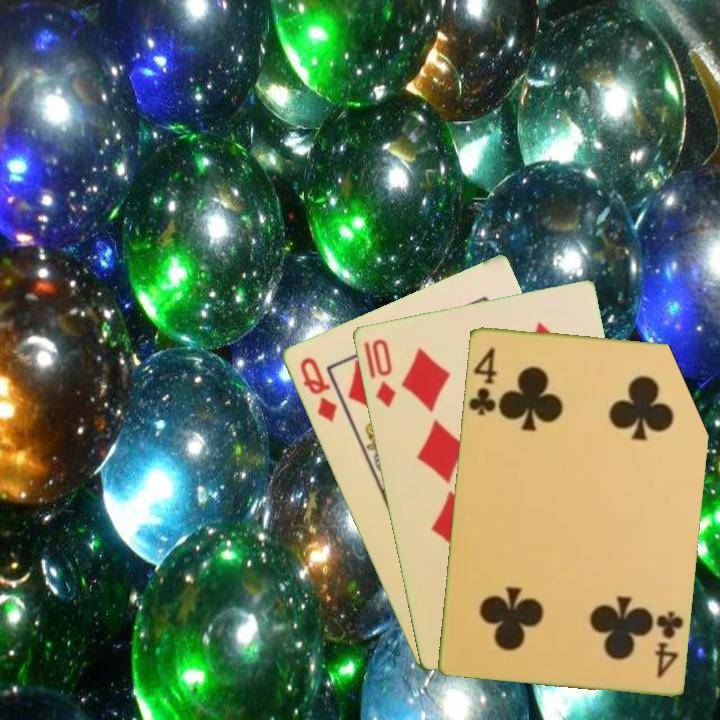10d: (360, 335, 399, 410)
4c: (465, 343, 500, 418), (651, 607, 686, 681)
Qd: (295, 353, 340, 425)
